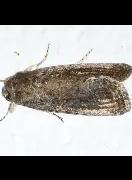army worm adult: (1, 44, 132, 130)
